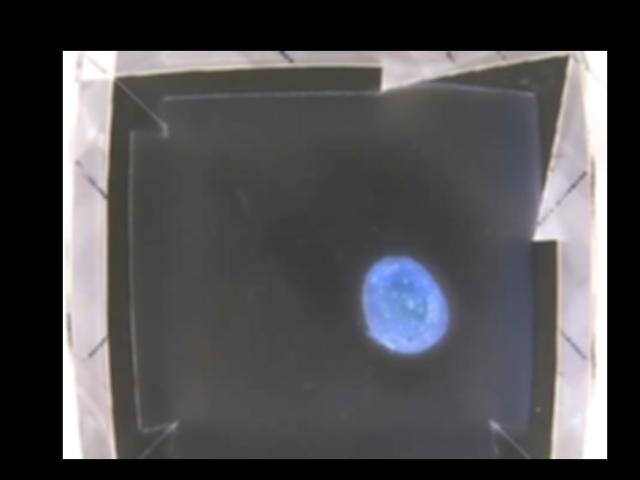Potato: (362, 254, 449, 353)
